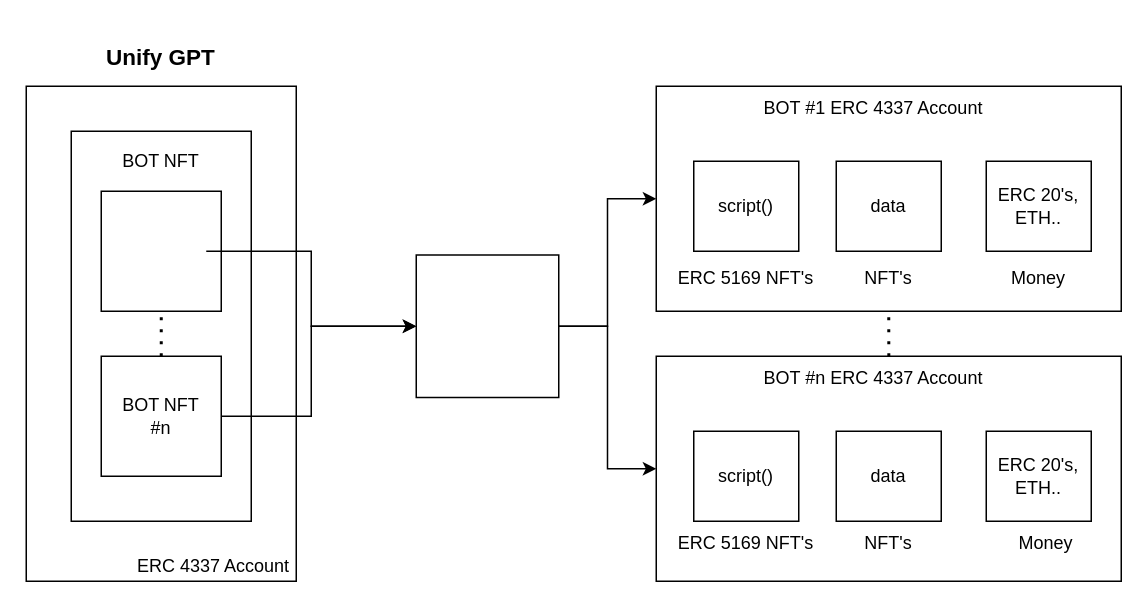
Image size: 1148x608. Some labels were removed from this diagram. Here are the shapes that lost their labels. From the top down, the centre of each, then its label:
At (160,250): "BOT NFT #1".
At (487,326): "ERC 6551 Registry".
